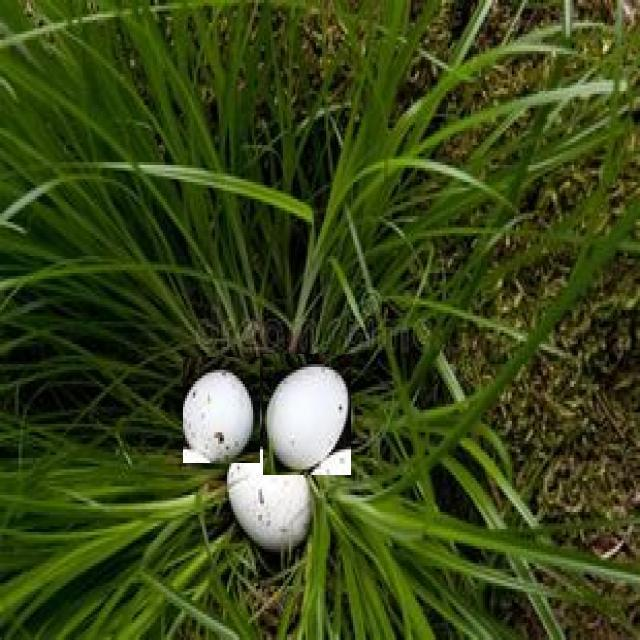Egg: (263, 354, 351, 475), (183, 357, 260, 463)
